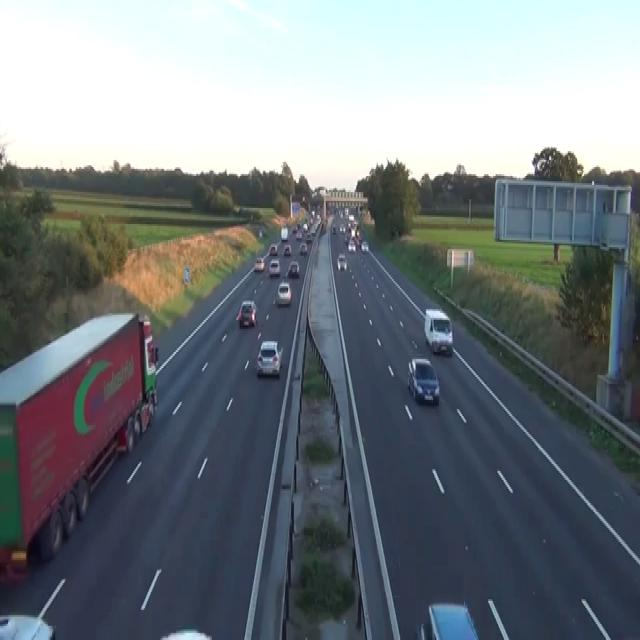Car: (0, 578, 66, 638), (419, 601, 479, 638), (407, 358, 439, 406), (424, 308, 453, 356), (0, 614, 56, 638), (256, 339, 283, 377), (236, 299, 257, 327), (160, 628, 212, 638), (276, 281, 291, 306), (287, 260, 299, 278), (268, 258, 280, 276), (336, 252, 347, 270), (254, 256, 265, 272), (441, 180, 453, 190), (280, 226, 288, 240), (268, 244, 277, 256), (347, 240, 356, 251), (360, 240, 368, 252), (283, 244, 291, 256), (299, 242, 307, 254), (305, 231, 312, 242), (344, 231, 350, 242), (321, 222, 326, 233), (339, 224, 345, 233), (302, 222, 308, 231), (296, 230, 302, 238), (331, 224, 336, 233), (292, 224, 297, 233), (258, 228, 262, 236)
Truck: (0, 309, 158, 582)
